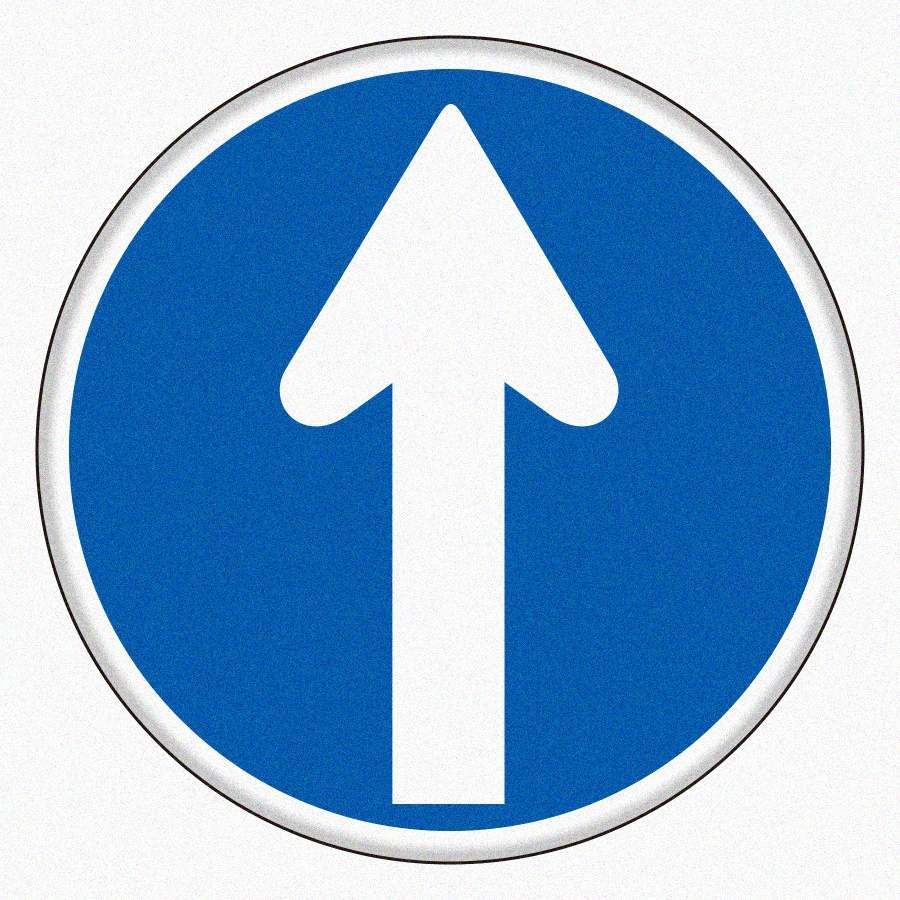Direction_sign: (31, 25, 866, 883)
